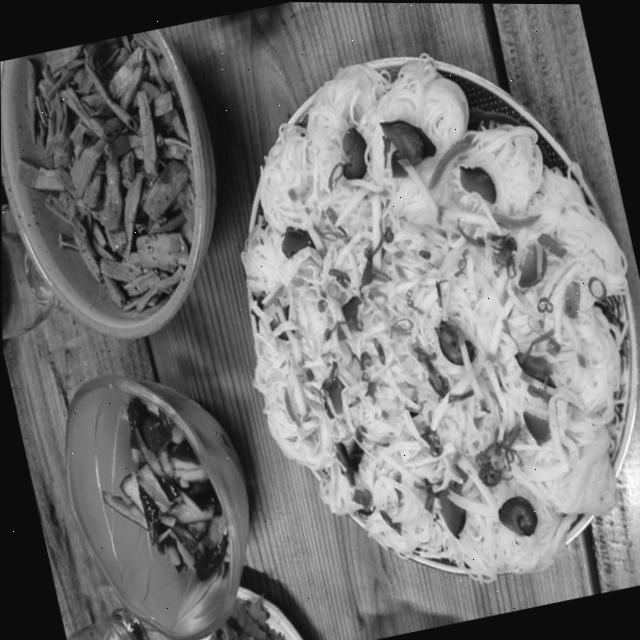面条主食: (183, 18, 640, 623)
